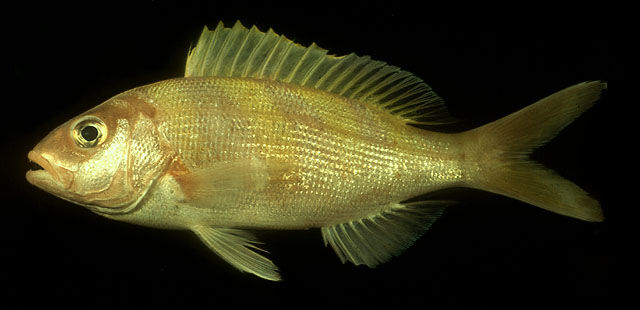fish: (24, 20, 607, 283)
